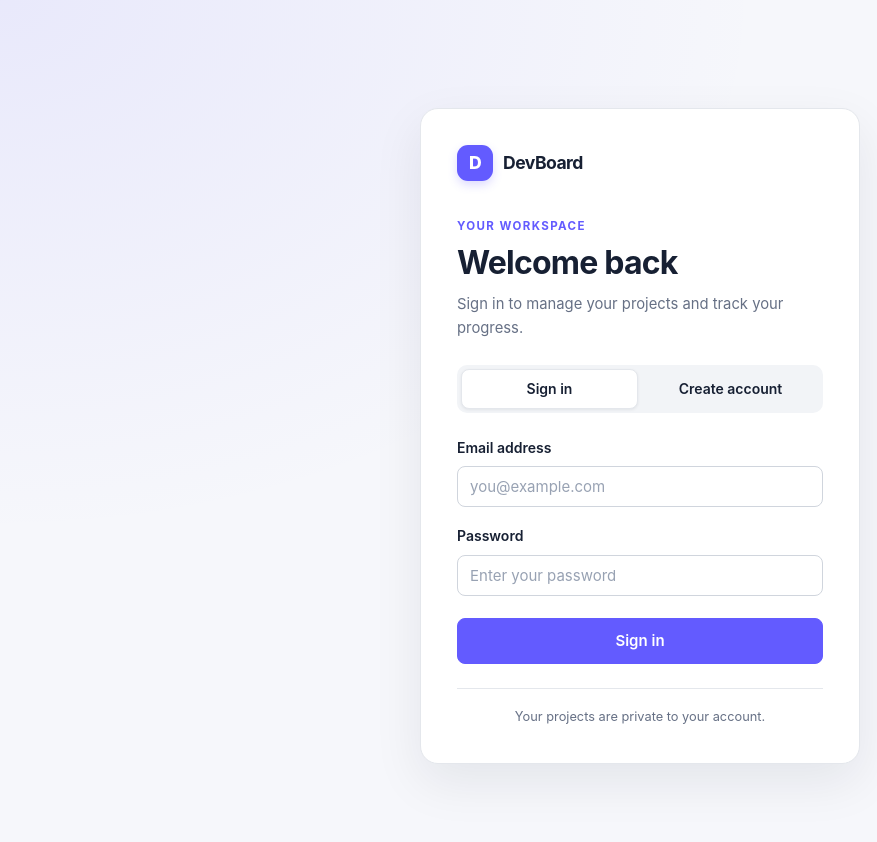
Test: AuthPage › shows an error when registration fails
Click the button "Create account".
click(730, 389)  # box [642, 369, 819, 409]
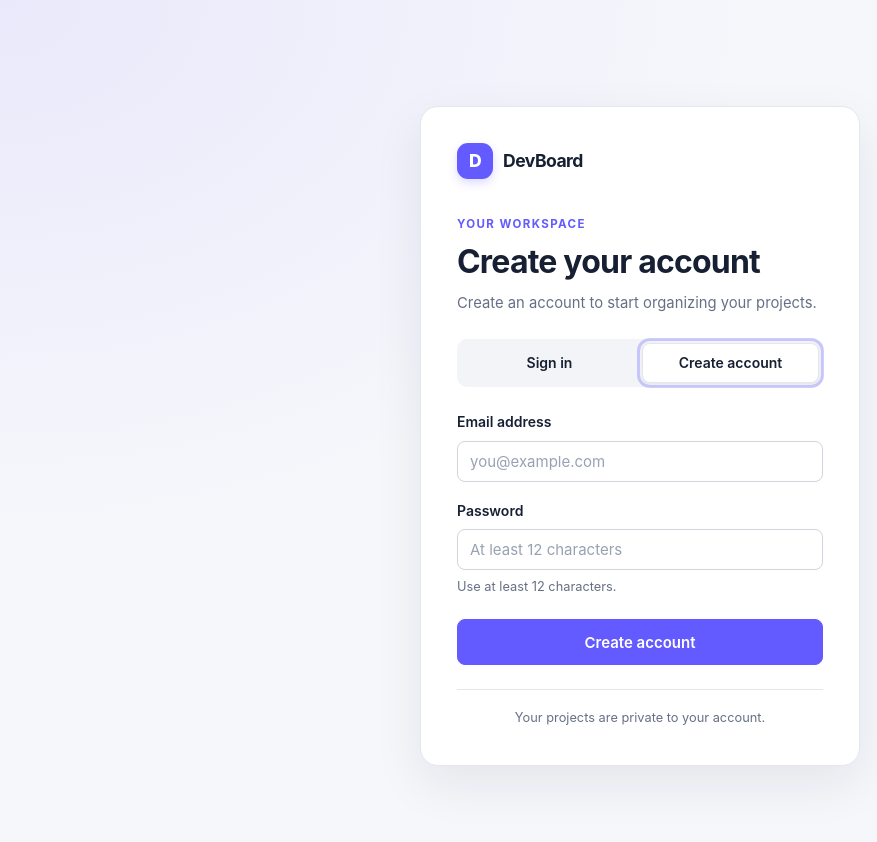
Type "existing@example.com" into the field labelled "Email address".
click(640, 461); type("existing@example.com")  # box [457, 441, 823, 482]
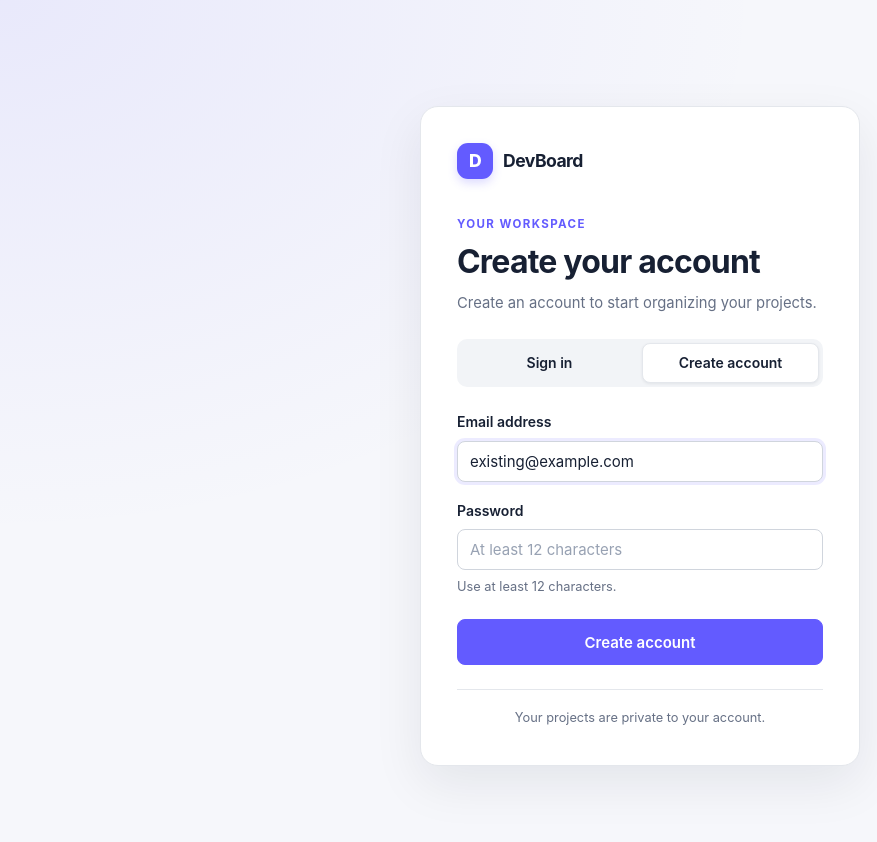
Type "a-very-secure-password" into the password field labelled "Password".
click(640, 550); type("a-very-secure-password")  # box [457, 529, 823, 570]
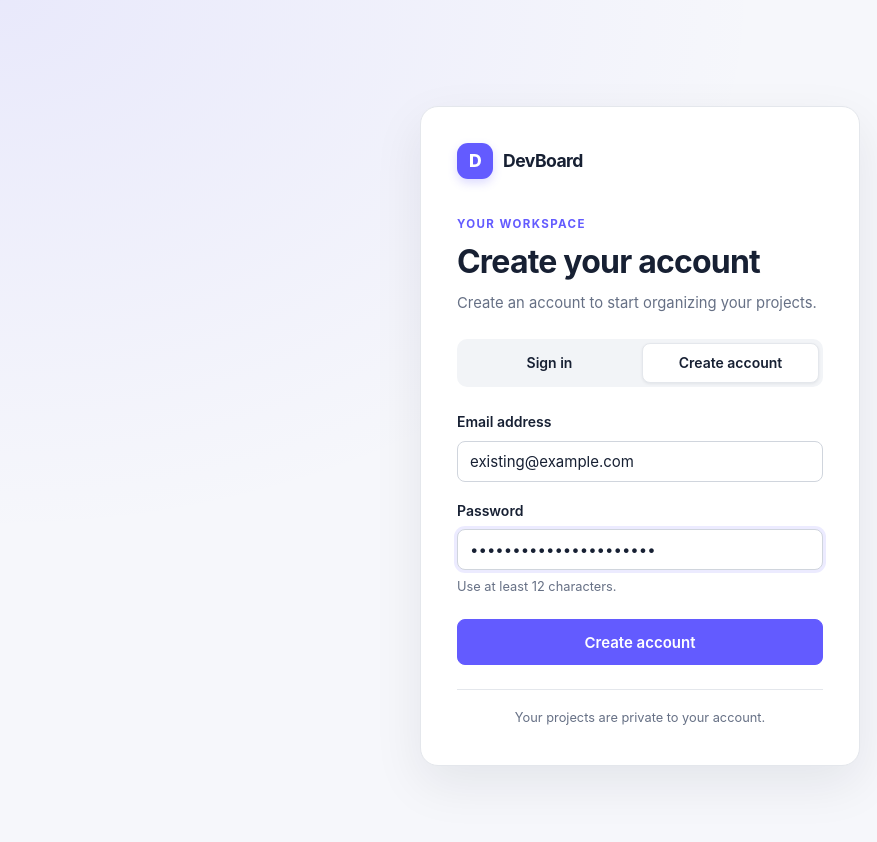
Click the button "Create account" below "Use at least 12 characters.".
click(640, 642)  # box [457, 619, 823, 665]
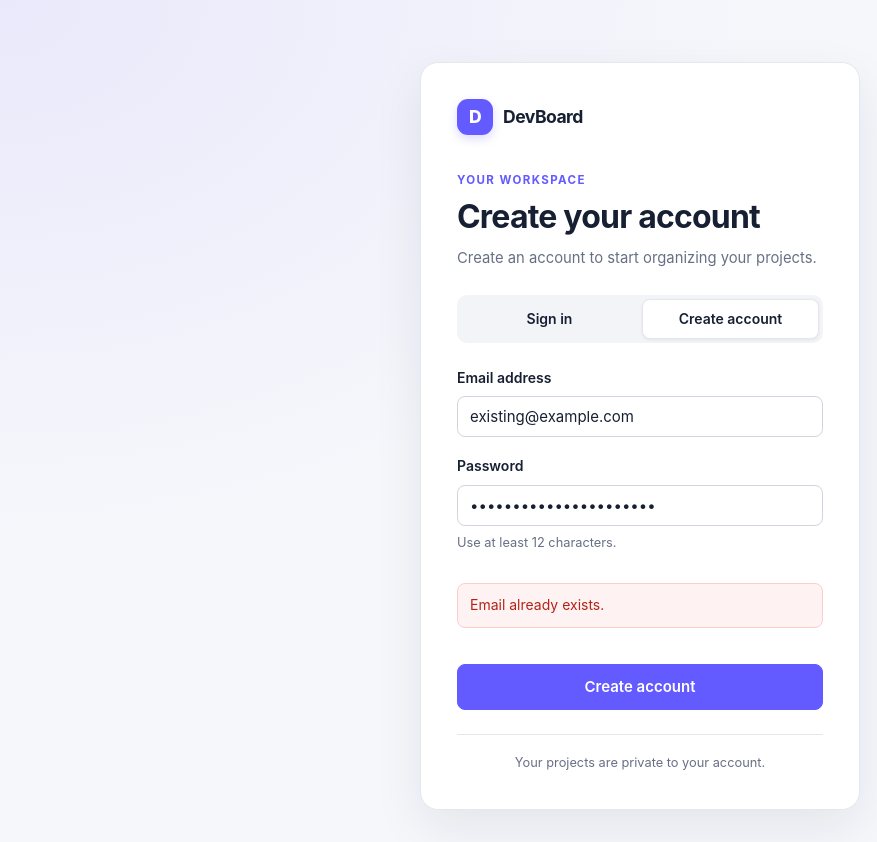
Expected: the message reads "Email already exists.", [470, 596, 604, 613]
